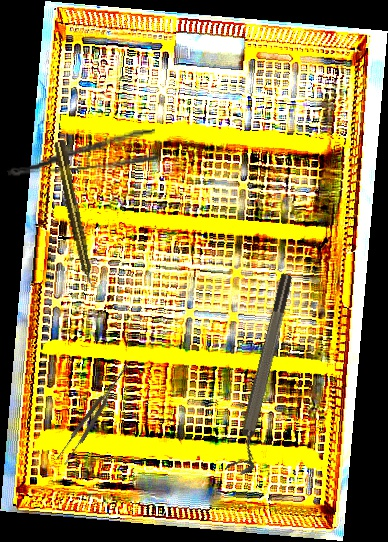Dressing Forceps: (4, 128, 159, 179)
Fixation Ring: (224, 271, 306, 478)
Handpiece: (52, 139, 98, 291)
Tissue Forceps: (54, 361, 134, 467)
